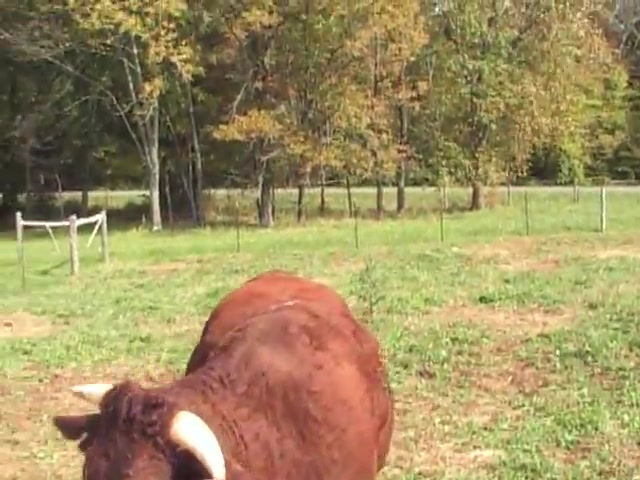cow: (52, 268, 395, 480)
